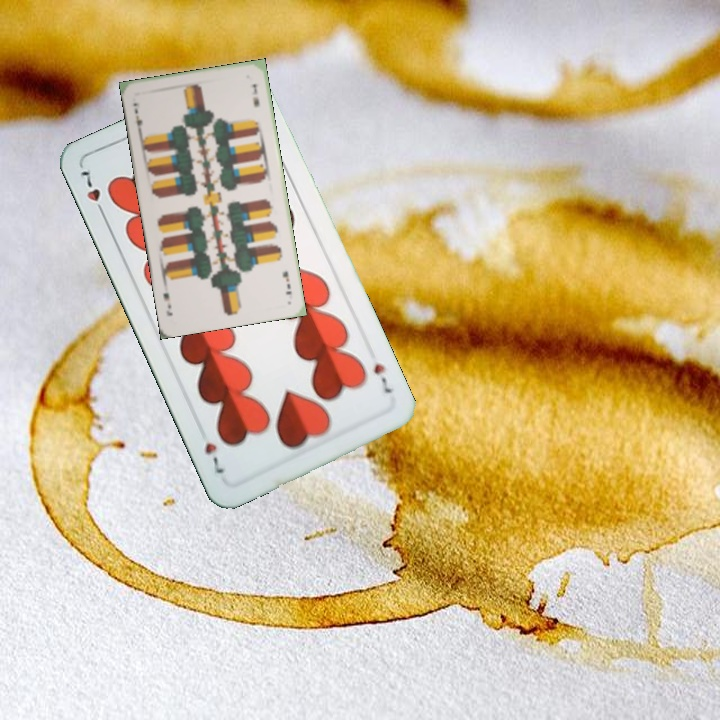E7: (129, 99, 145, 135), (279, 267, 294, 297)
H7: (77, 164, 109, 220), (369, 359, 397, 396)
